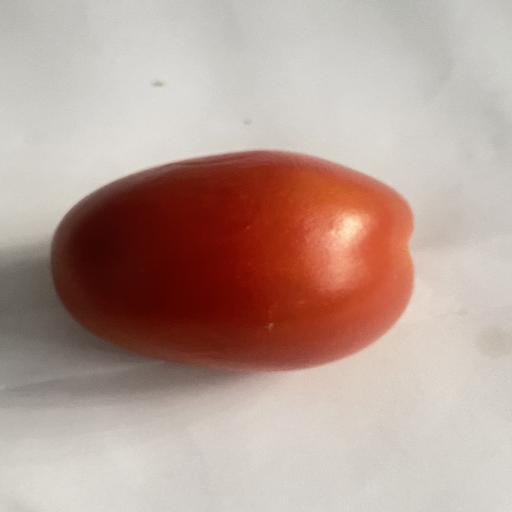overipe: (52, 151, 413, 371)
